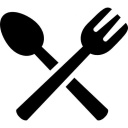Fork: (28, 4, 126, 121)
